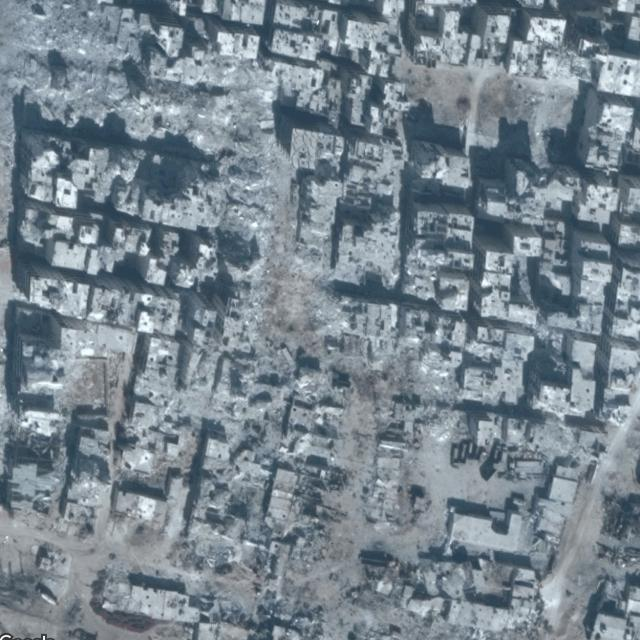damaged_building: (1, 0, 542, 637), (10, 342, 114, 516), (526, 385, 596, 465), (508, 42, 594, 88)
